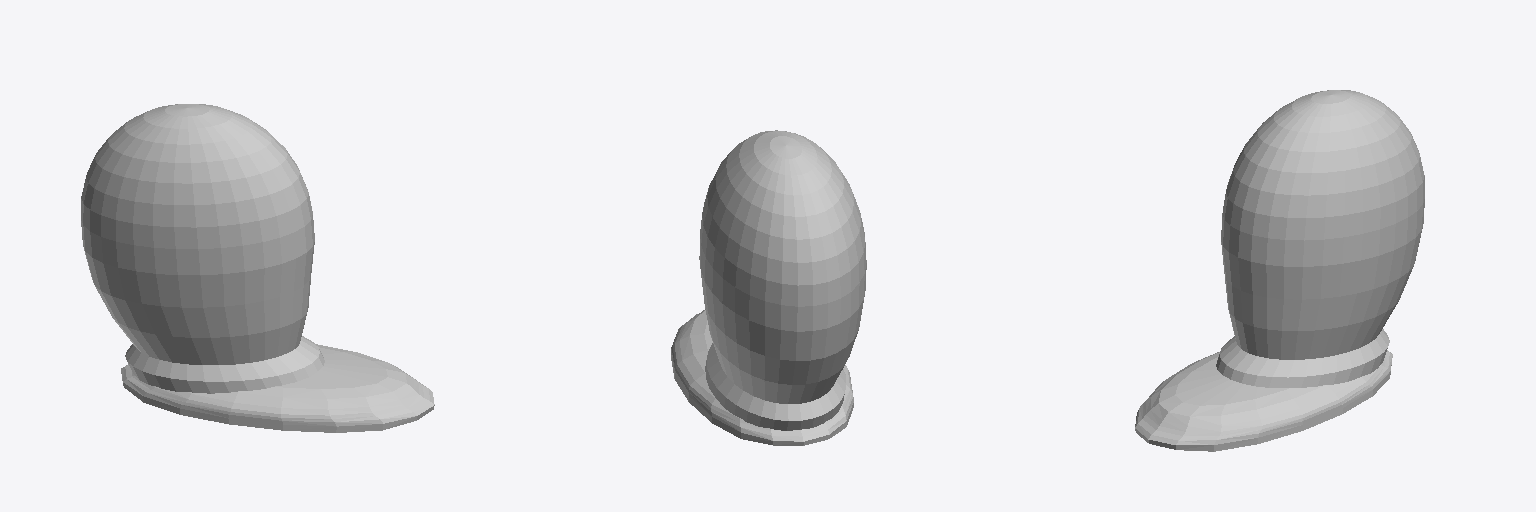
The model's file is cuerpo.obj.
3 views of the same model, side by side, from view 1: azimuth 30°, elevation 25°; view 2: azimuth 150°, elevation 25°; view 3: azimuth 270°, elevation 25° (orthographic).
Visible parts, largest first — view 1: pasted__polySurface6 group19 group18 group17 group16; view 2: pasted__polySurface6 group19 group18 group17 group16; view 3: pasted__polySurface6 group19 group18 group17 group16.
Boxes of the visible parts, x1,y1,x2,y2 form: pasted__polySurface6 group19 group18 group17 group16: [81, 104, 434, 432]; pasted__polySurface6 group19 group18 group17 group16: [671, 130, 866, 445]; pasted__polySurface6 group19 group18 group17 group16: [1135, 90, 1424, 451].
Size of the model in its own units: 1.14 by 1.23 by 1.15.